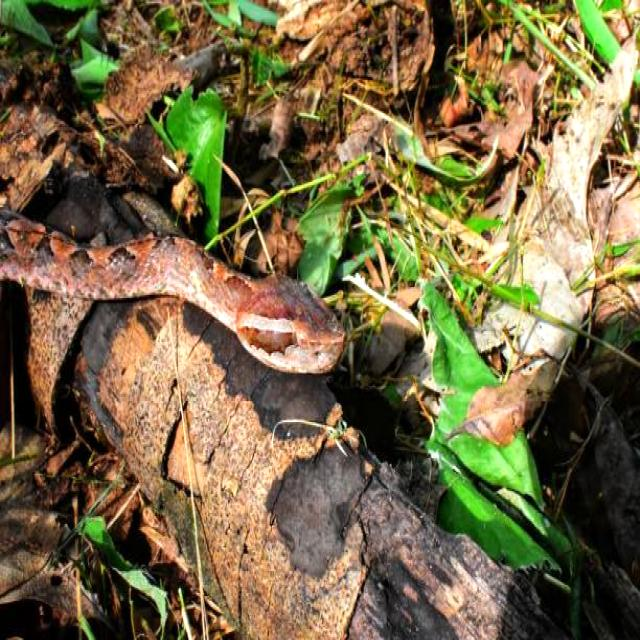Calloselasma rhodostoma: (0, 211, 345, 373)
